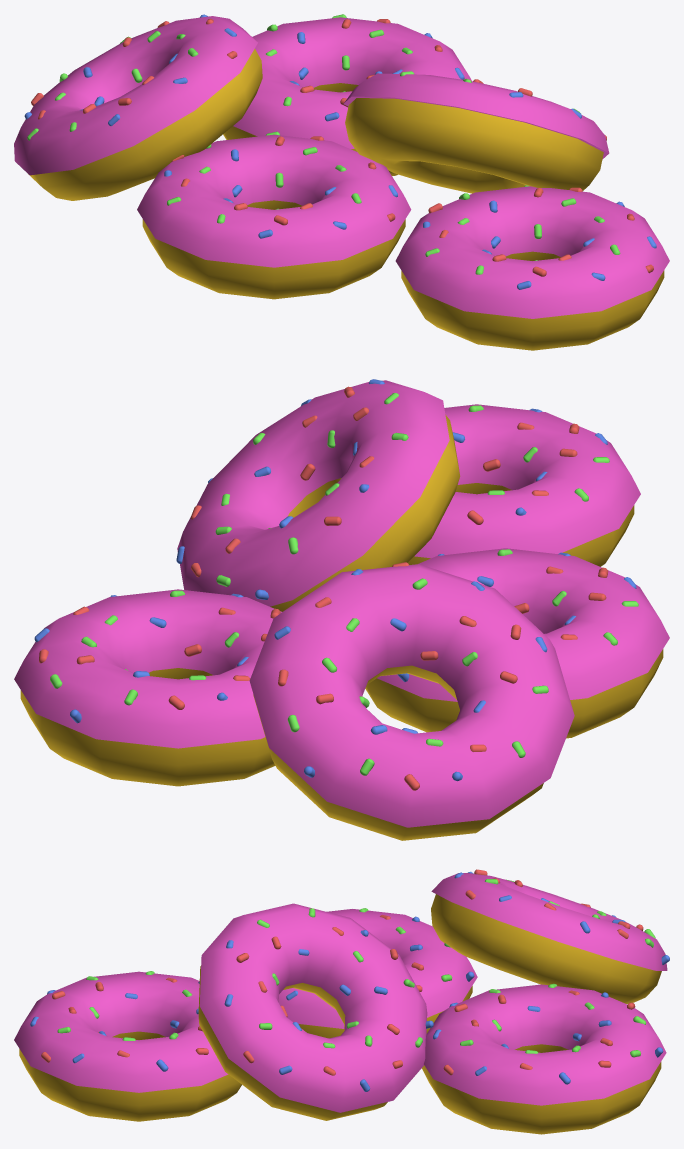
Rendered from Doughnuts.fbx.
3 views of the same model, one above another, from view 1: azimuth 30°, elevation 25°; view 2: azimuth 150°, elevation 25°; view 3: azimuth 270°, elevation 25° (orthographic). The views are drawn at different scales.
Parts seen in each view (by area): view 1: pCylinder36; view 2: pCylinder36; view 3: pCylinder36.
Boxes of the visible parts, left/top/right/bottom form: pCylinder36: left=14, top=14, right=669, bottom=350; pCylinder36: left=14, top=379, right=669, bottom=840; pCylinder36: left=14, top=869, right=669, bottom=1134.
Bounding box in the file's own units: 0.6709 × 0.2696 × 0.9729.
